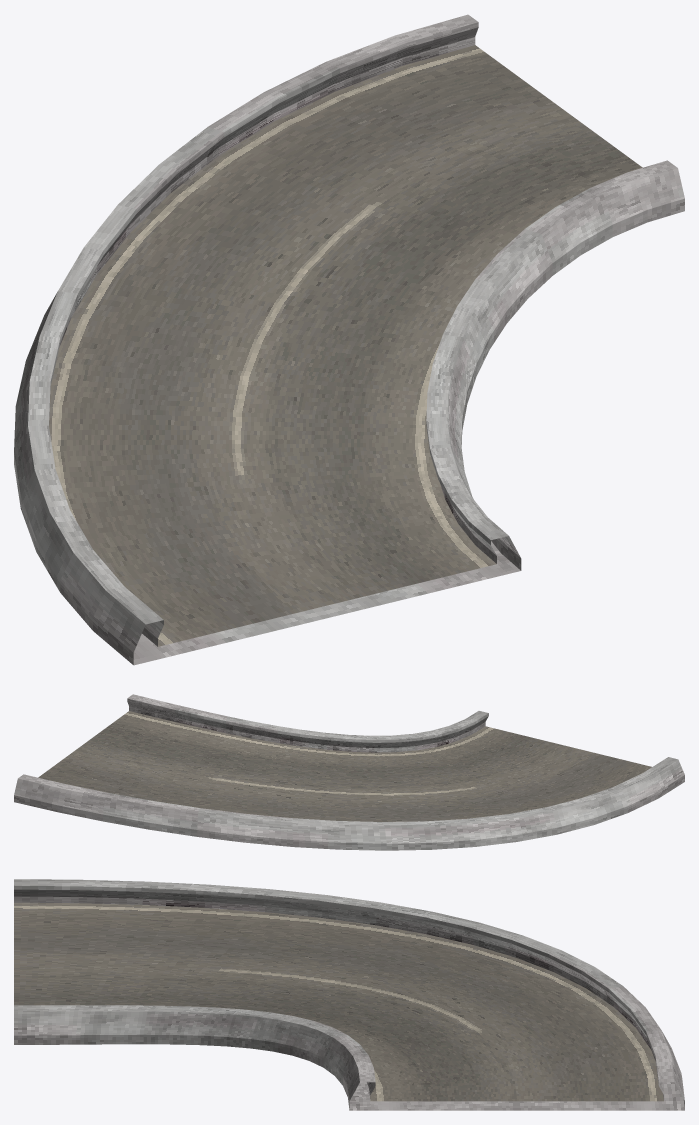
Rendered from road-Turn-Flat-Flat-Up1-Right-Size2.glb.
3 renders of one model, top to bottom at view 1: azimuth 30°, elevation 25°; view 2: azimuth 150°, elevation 25°; view 3: azimuth 270°, elevation 25°, orthographic. The views are drawn at different scales.
Parts seen in each view (by area): view 1: road-Turn-Flat-Flat-Up1-Right-Size2; view 2: road-Turn-Flat-Flat-Up1-Right-Size2; view 3: road-Turn-Flat-Flat-Up1-Right-Size2.
Boxes of the visible parts, x1,y1,x2,y2 form: road-Turn-Flat-Flat-Up1-Right-Size2: [14, 14, 684, 665]; road-Turn-Flat-Flat-Up1-Right-Size2: [14, 694, 684, 850]; road-Turn-Flat-Flat-Up1-Right-Size2: [14, 879, 684, 1110].
Bounding box in the file's own units: 2 × 0.3438 × 2.
2 materials, 2 textured.
